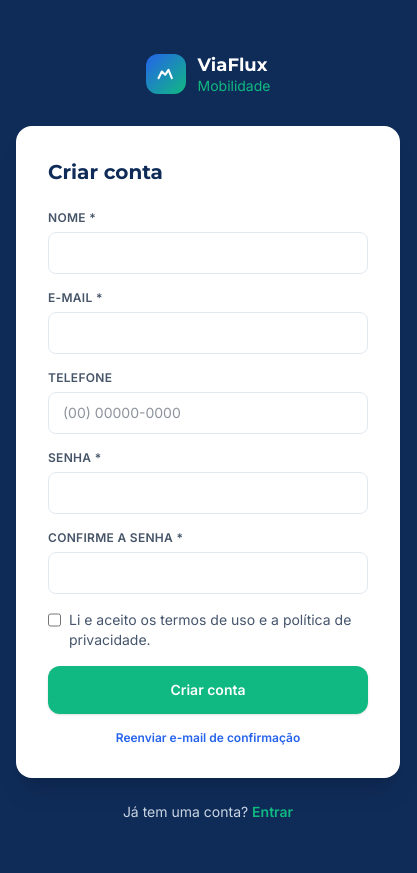
Test case: cadastro do cliente › mostra no campo o erro devolvido pela API
Type "Ana" into the field labelled "Nome *".
click(208, 253); type("Ana")  # box left=48, top=232, right=368, bottom=274
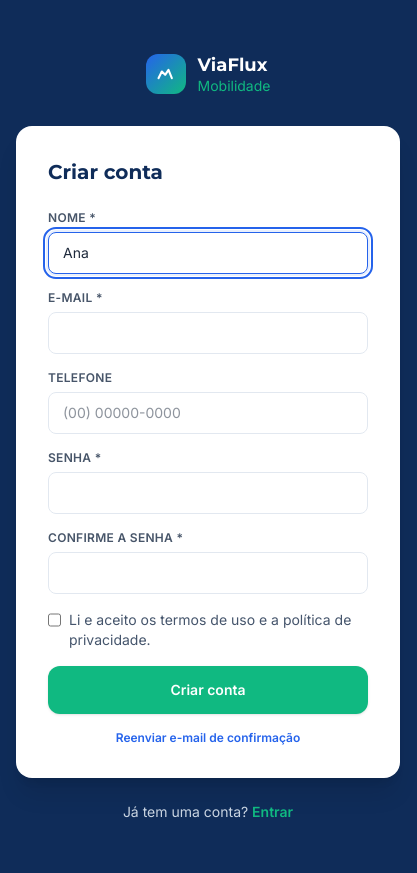
Type "ana@" into the field labelled "E-mail *".
click(208, 333); type("ana@")  # box left=48, top=312, right=368, bottom=354
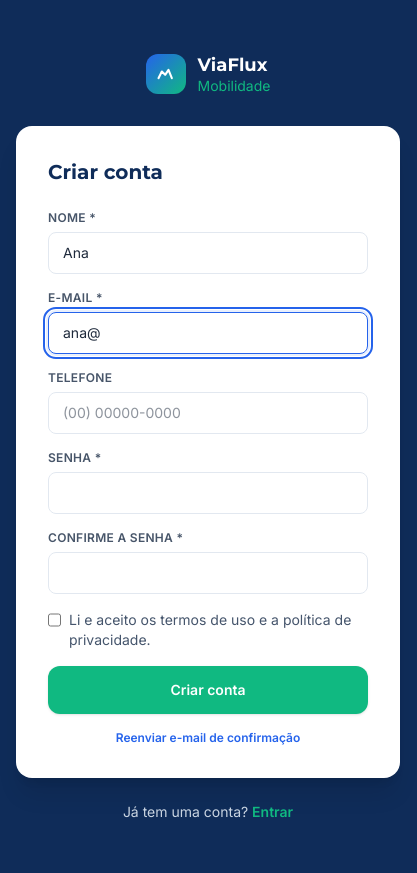
Type "senha-forte-1" into the password field labelled "Senha *".
click(208, 493); type("senha-forte-1")  # box left=48, top=472, right=368, bottom=514
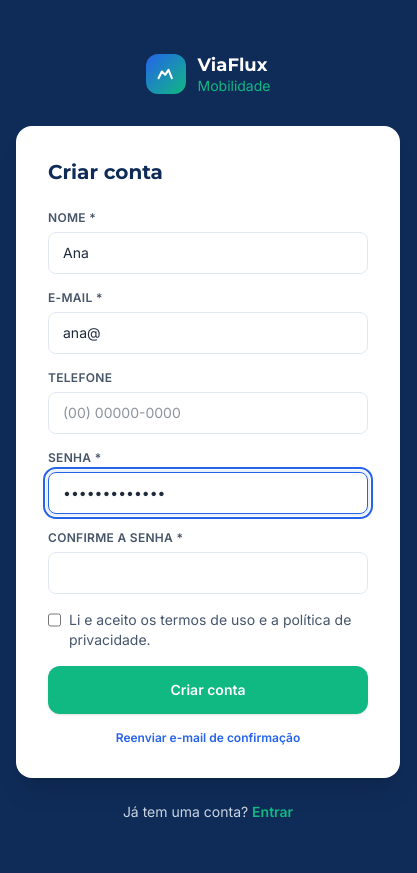
Type "senha-forte-1" into the password field labelled "Confirme a senha *".
click(208, 573); type("senha-forte-1")  # box left=48, top=552, right=368, bottom=594
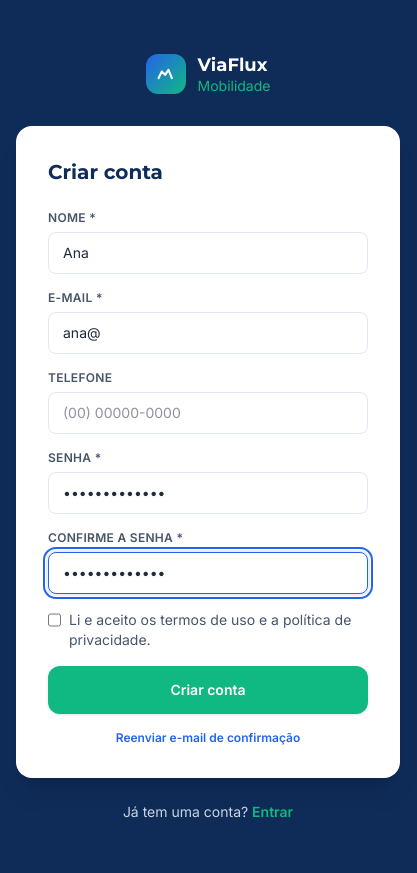
Click the checkbox labelled "Li e aceito os termos de uso e a política de privacidade.".
click(54, 620)  # box left=48, top=612, right=61, bottom=628
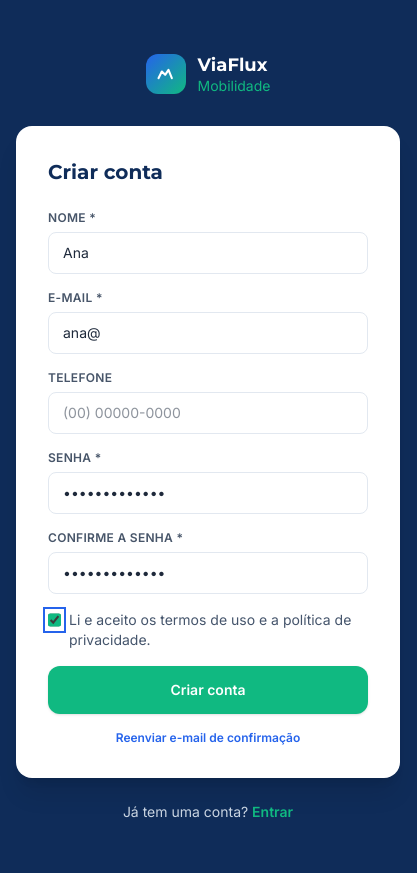
Click the button "Criar conta".
click(208, 690)  # box left=48, top=666, right=368, bottom=714
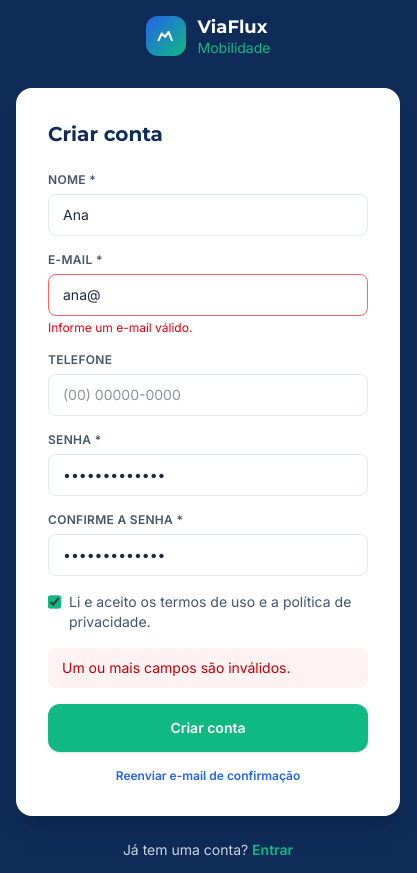
Result: the text "Informe um e-mail válido." is shown at left=48, top=320, right=192, bottom=335
